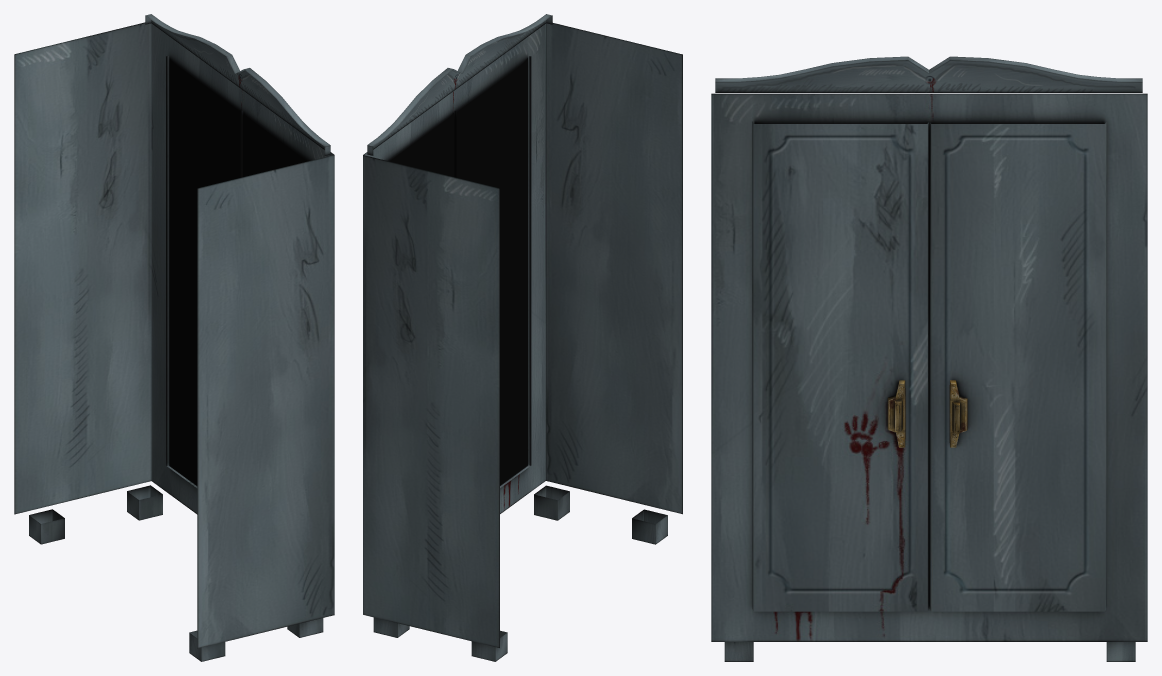
Rendered from penderie_enfant.fbx.
3 renders of one model, left to right at view 1: azimuth 30°, elevation 25°; view 2: azimuth 150°, elevation 25°; view 3: azimuth 270°, elevation 25°, orthographic. The views are drawn at different scales.
Parts seen in each view (by area): view 1: polySurface1748; view 2: polySurface1748; view 3: polySurface1748.
Boxes of the visible parts, <box> form: polySurface1748: <box>14,14,334,661</box>; polySurface1748: <box>363,14,682,661</box>; polySurface1748: <box>711,56,1147,661</box>.
Size of the model in its own units: 79.96 by 256 by 168.
